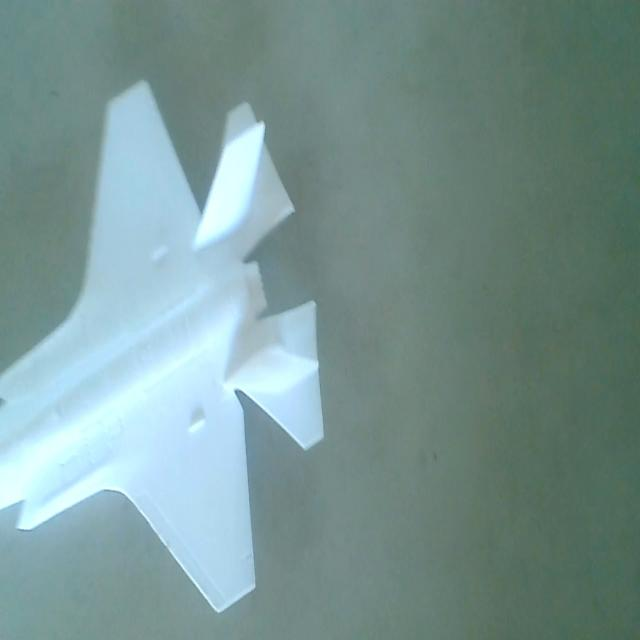Jet: (0, 73, 328, 617)
